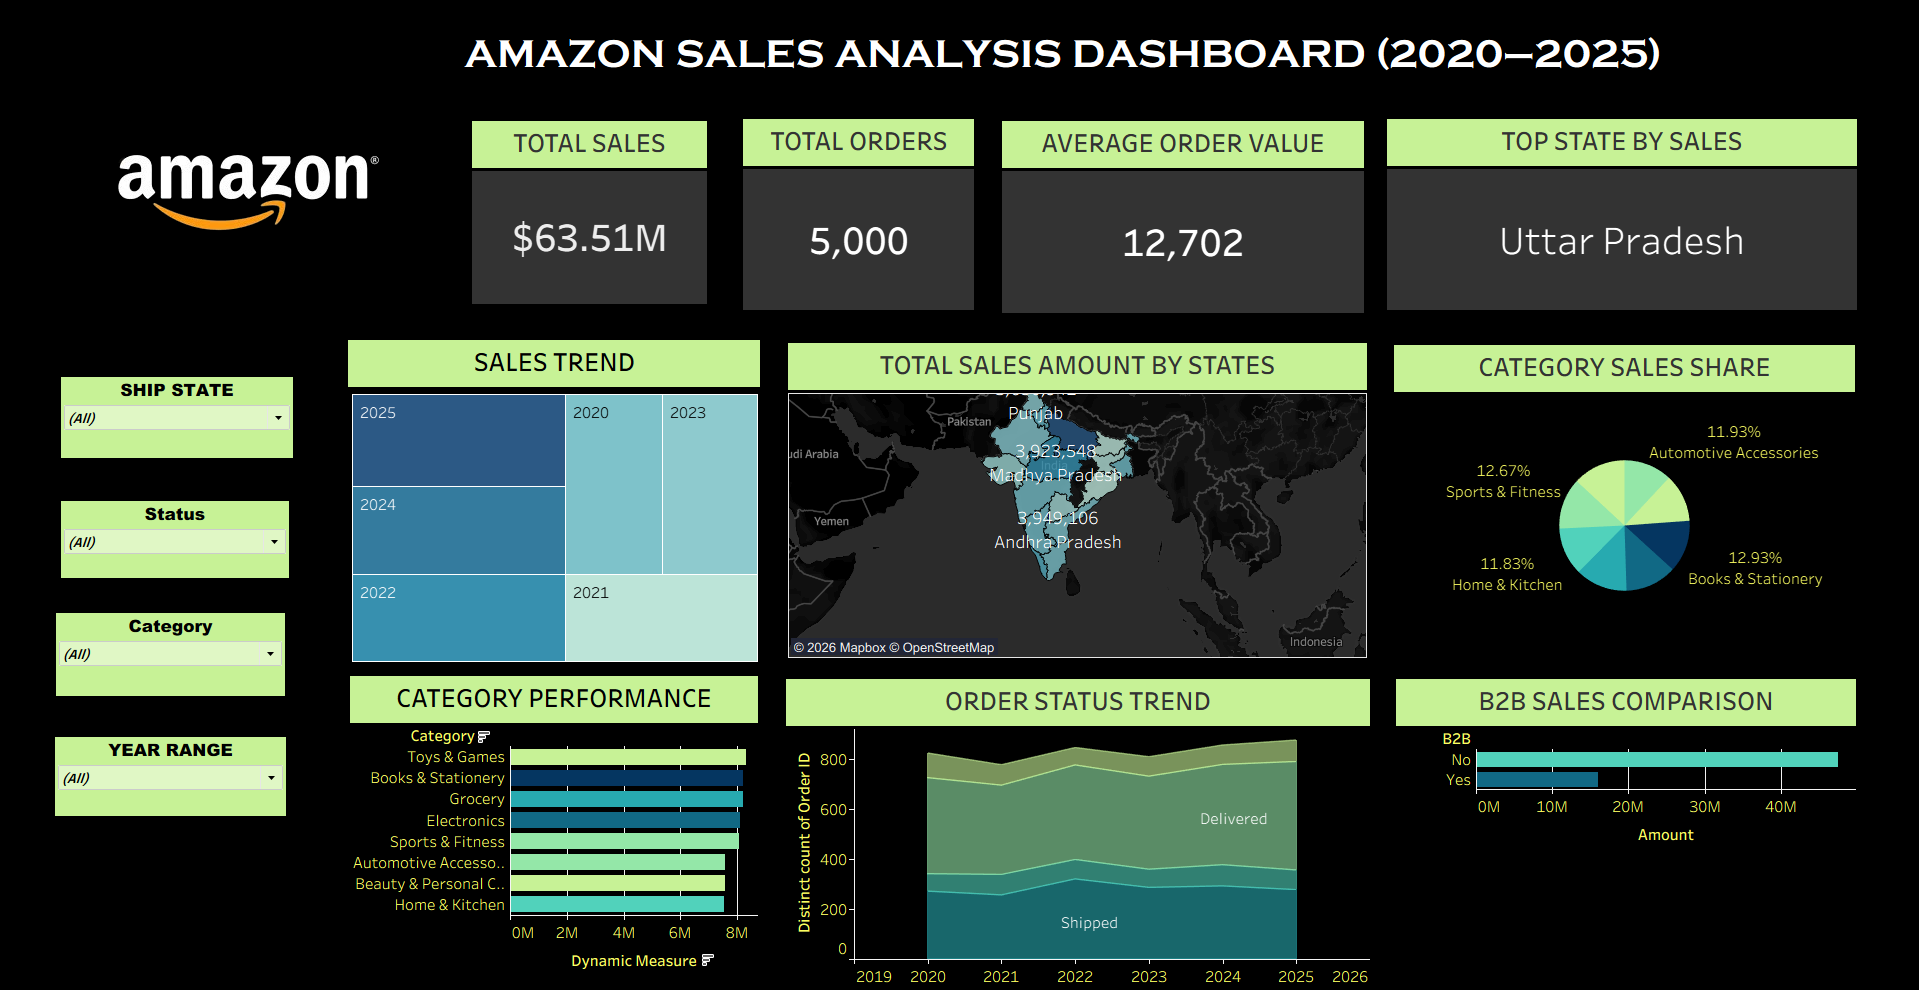

What the dashboard file says about the page in this screenshot:
{"tool":"tableau","page":{"name":"Dashboard 1","canvas":[1000,1000],"units":"permille","ordinal":0},"visuals":[{"type":"image","param":"F:/TABLEAU PROJECT/images/download-removebg-preview.png","box":[6.6,13.7,239,340.8]},{"type":"text","box":[240.2,13.7,753.2,84.9]},{"type":"worksheet","title":"TOTAL ORDERS","mark":"Automatic","box":[386.8,122.4,120.7,192.3]},{"type":"worksheet","title":"TOP STATE BY SALES","mark":"Text","box":[722.4,122.4,245,192.3]},{"type":"worksheet","title":"Total Sales KPI","mark":"Text","box":[245.6,123.6,122.5,188.5]},{"type":"worksheet","title":"AVERAGE ORDER VALUE","mark":"Automatic","box":[522,123.6,188.3,193.5]},{"type":"worksheet","title":"Sales Trend","mark":"Square","box":[181.1,344.6,214.8,327.1]},{"type":"worksheet","title":"Sheet 12","mark":"Automatic","box":[12.1,345.8,164.8,629.2]},{"type":"worksheet","title":"Total sales amount in States","mark":"Automatic","box":[410.4,347.1,301.8,317.1]},{"type":"worksheet","title":"Category Sales Share","mark":"Pie","box":[726,349.6,240.2,313.4]},{"type":"filter","title":"Sheet 12","param":"[federated.16lgqz31sm7nlw17qeiwx12v6qgn].[none:Ship State:nk]","box":[31.8,382,120.8,81.2]},{"type":"filter","title":"Sheet 12","param":"[federated.16lgqz31sm7nlw17qeiwx12v6qgn].[none:Status:nk]","box":[32,506.9,118.9,77.4]},{"type":"filter","title":"Sheet 12","param":"[federated.16lgqz31sm7nlw17qeiwx12v6qgn].[none:Category:nk]","box":[29.1,619.2,119.2,83.7]},{"type":"worksheet","title":"Category Performance","mark":"Bar","rows":["Category"],"cols":["Calculation_1313925212975435781"],"box":[182.3,682.9,212.4,304.6]},{"type":"worksheet","title":"B2B Sales Comparison","mark":"Bar","rows":["B2B"],"cols":["Amount"],"box":[727.2,685.4,239.6,297.1]},{"type":"filter","title":"Sheet 12","param":"[federated.16lgqz31sm7nlw17qeiwx12v6qgn].[yr:Date:ok]","box":[28.6,744.1,120.2,79.9]}]}

Visuals, with their boxes on the dashboard's canvas, which has no fixed pixel size, in thousandths of its width and height (x1, y1, x2, y2). These are canvas units, not pixel positions in the 1919x990 screenshot, which may show the page scaled, cropped or inside an application window:
image: 7 14 246 354
text: 240 14 993 99
"TOTAL ORDERS" worksheet: 387 122 508 315
"TOP STATE BY SALES" worksheet (Text marks): 722 122 967 315
"Total Sales KPI" worksheet (Text marks): 246 124 368 312
"AVERAGE ORDER VALUE" worksheet: 522 124 710 317
"Sales Trend" worksheet (Square marks): 181 345 396 672
"Sheet 12" worksheet: 12 346 177 975
"Total sales amount in States" worksheet: 410 347 712 664
"Category Sales Share" worksheet (Pie marks): 726 350 966 663
"Sheet 12" filter: 32 382 153 463
"Sheet 12" filter: 32 507 151 584
"Sheet 12" filter: 29 619 148 703
"Category Performance" worksheet (Bar marks): 182 683 395 988
"B2B Sales Comparison" worksheet (Bar marks): 727 685 967 982
"Sheet 12" filter: 29 744 149 824
